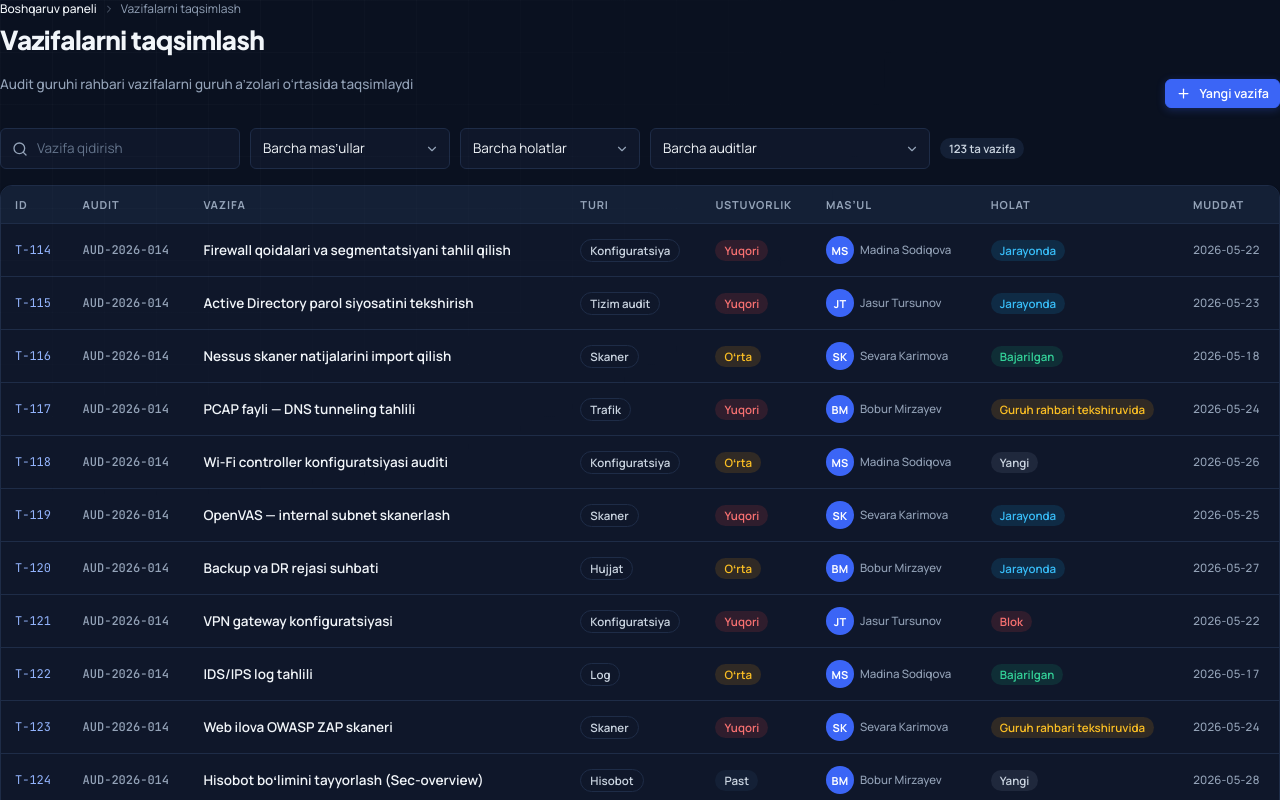
Test: AssignScreen › opens the create modal when the user has a creatable audit
Click the button "Yangi vazifa" at (1223, 94), box [1165,79,1279,108]
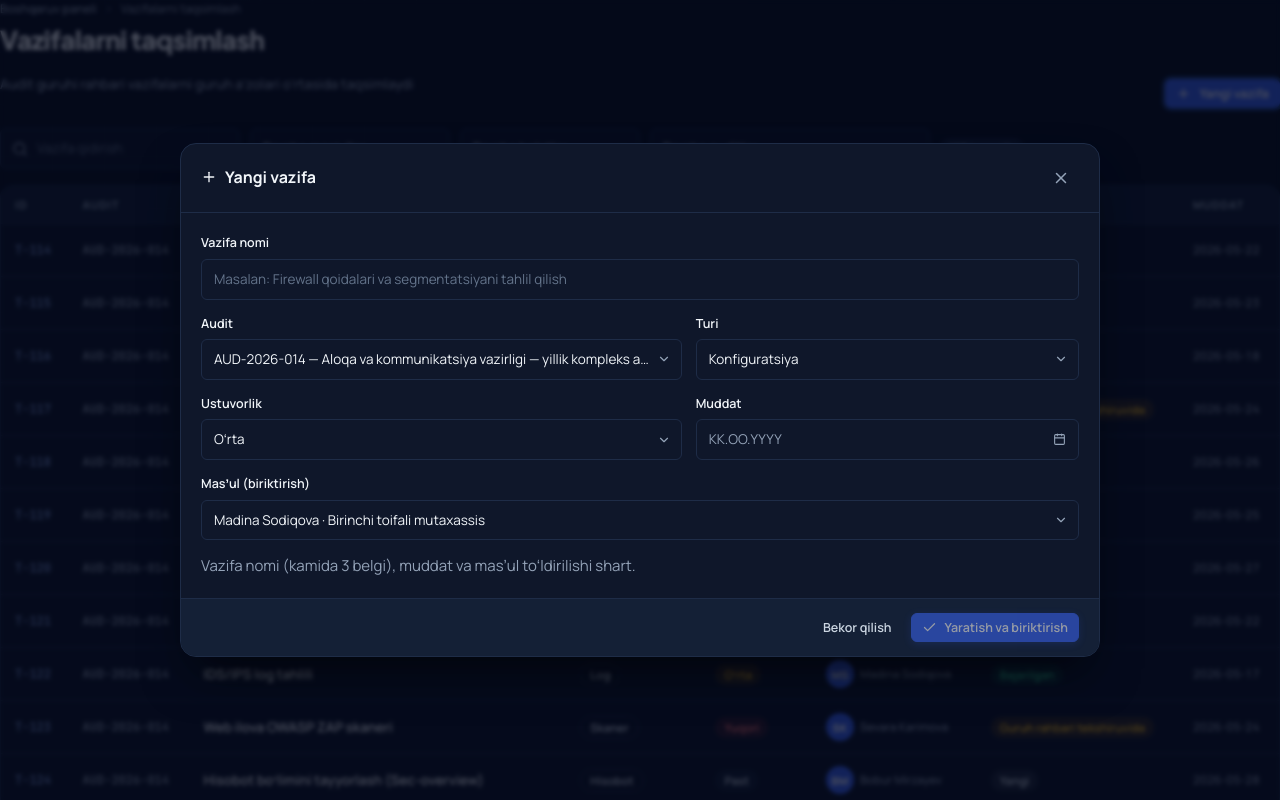
Now the button "Yaratish va biriktirish" is shown, box [910,613,1079,642]
